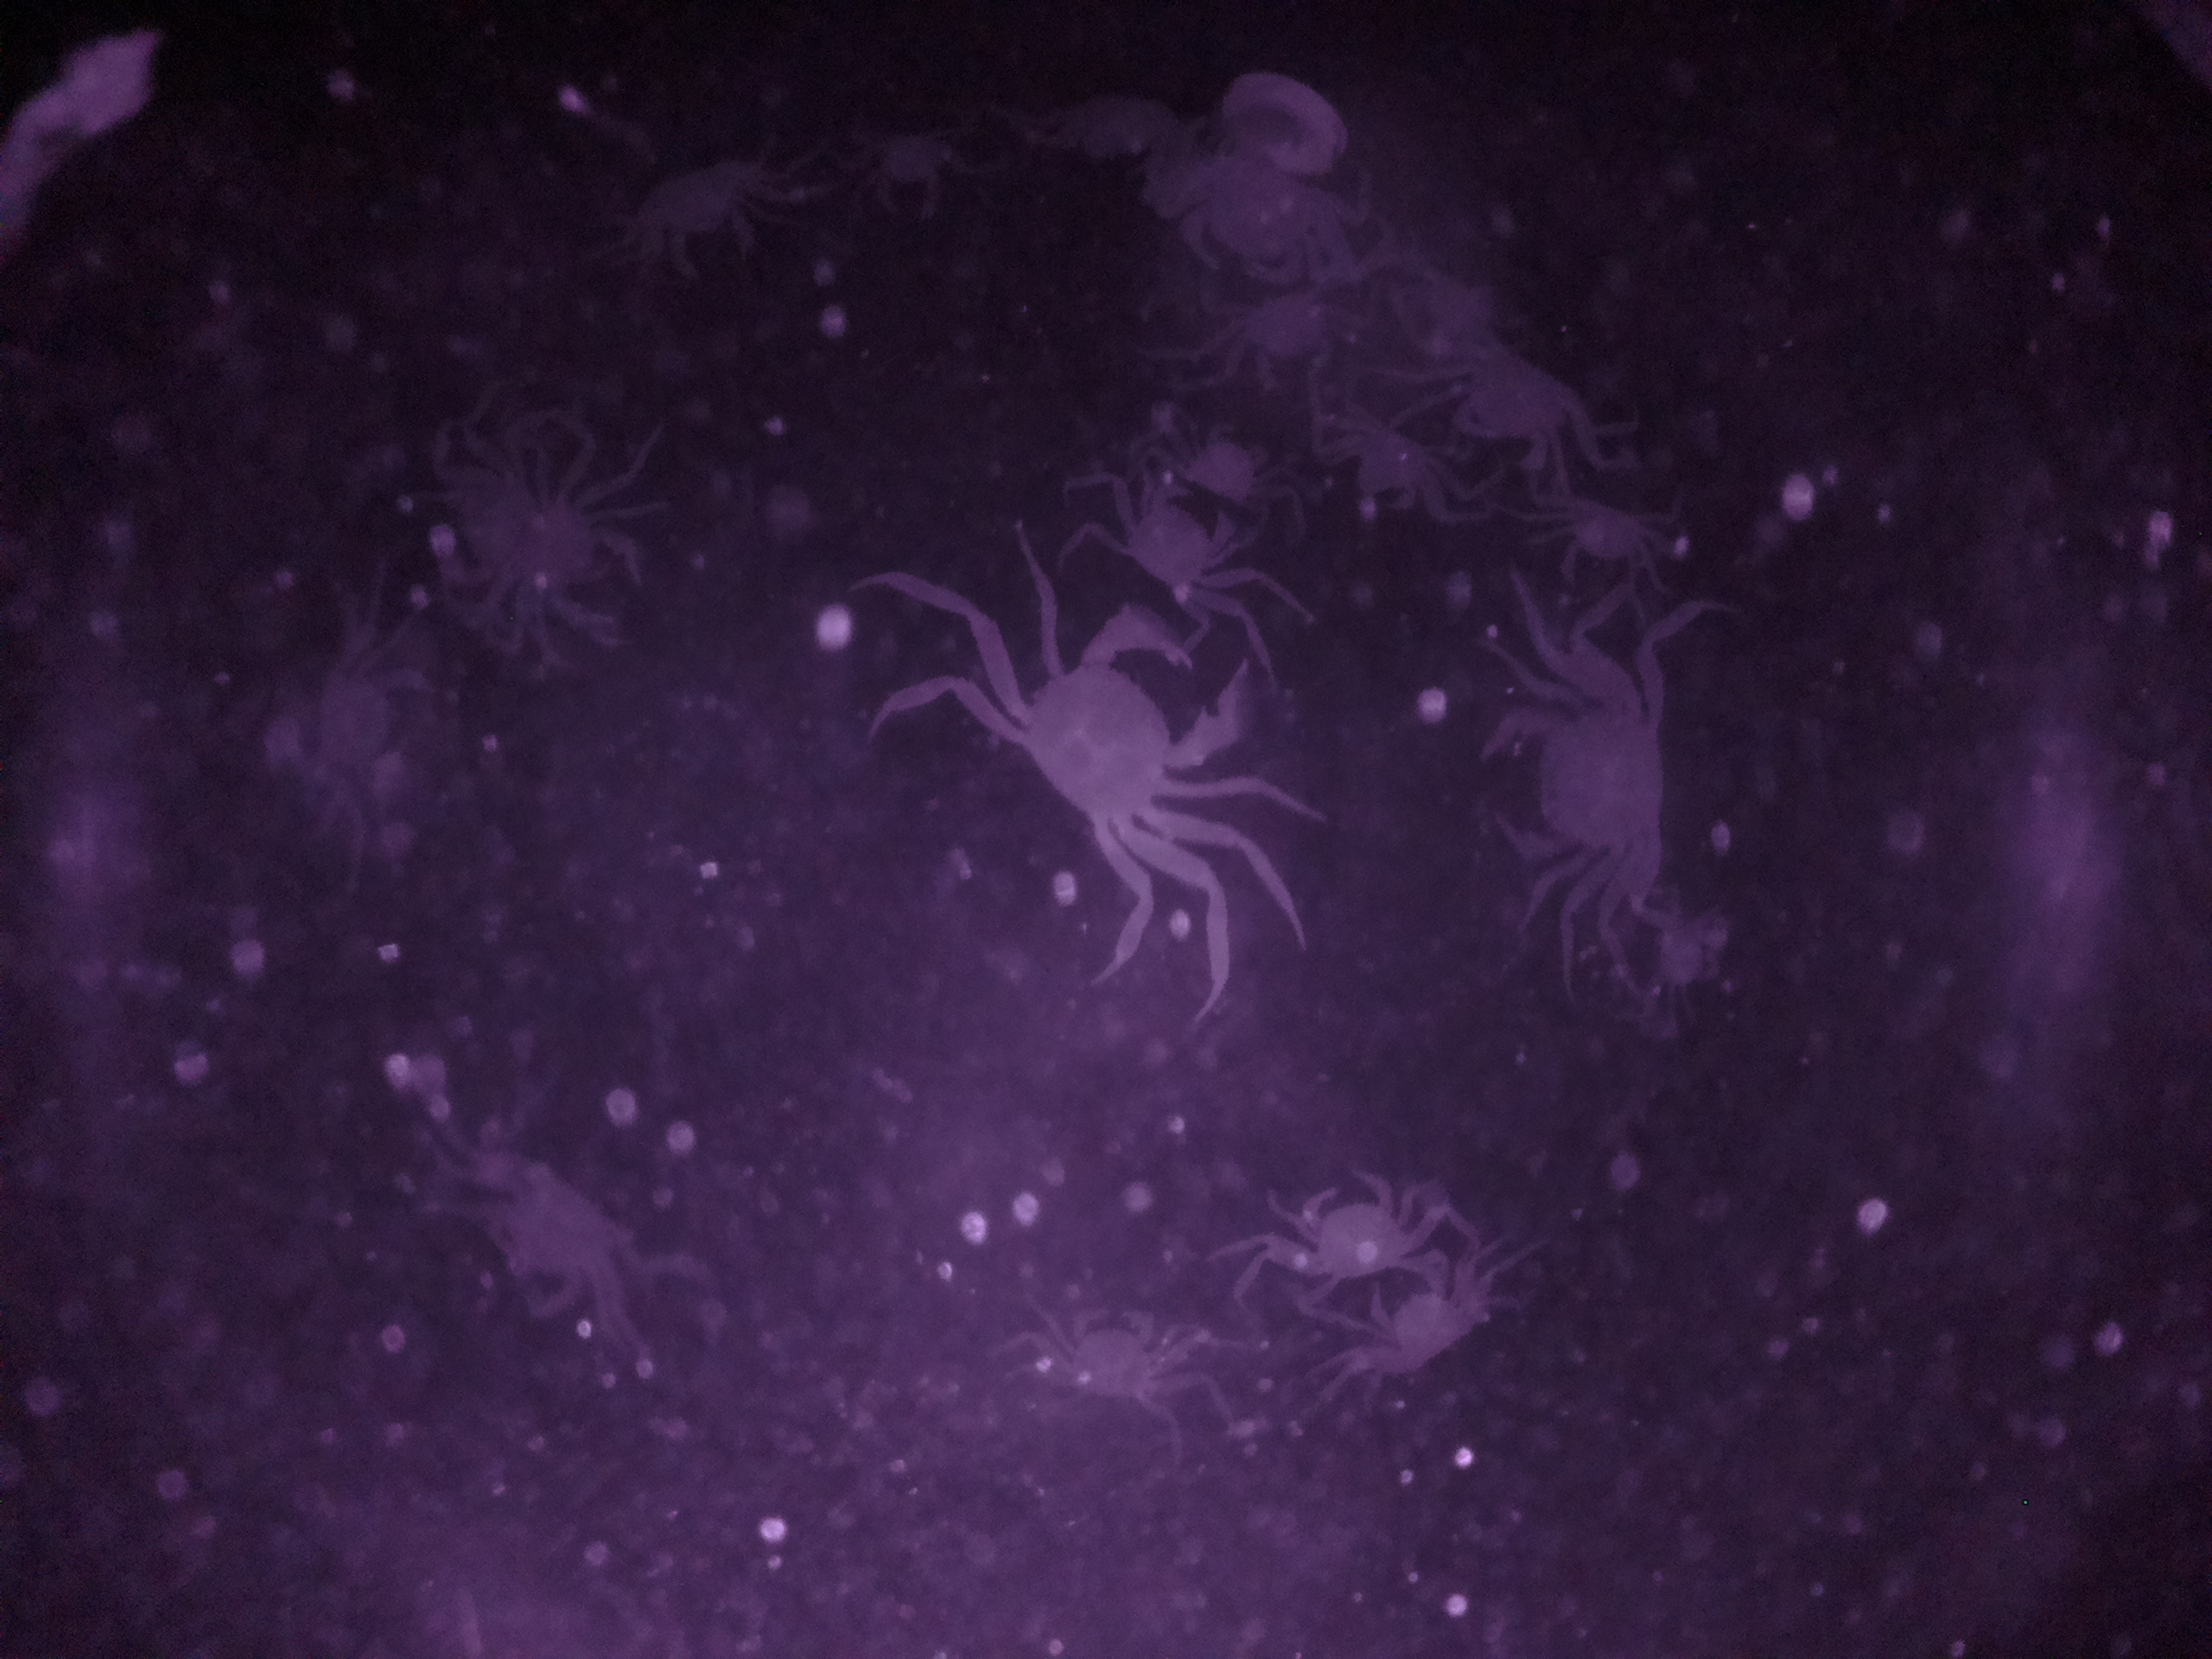Crab: (967, 622, 1270, 894), (1474, 662, 1695, 906), (1024, 1279, 1212, 1434), (1268, 1148, 1432, 1303), (631, 138, 775, 288), (1517, 483, 1698, 591), (1355, 1234, 1479, 1389), (1087, 481, 1237, 605)
